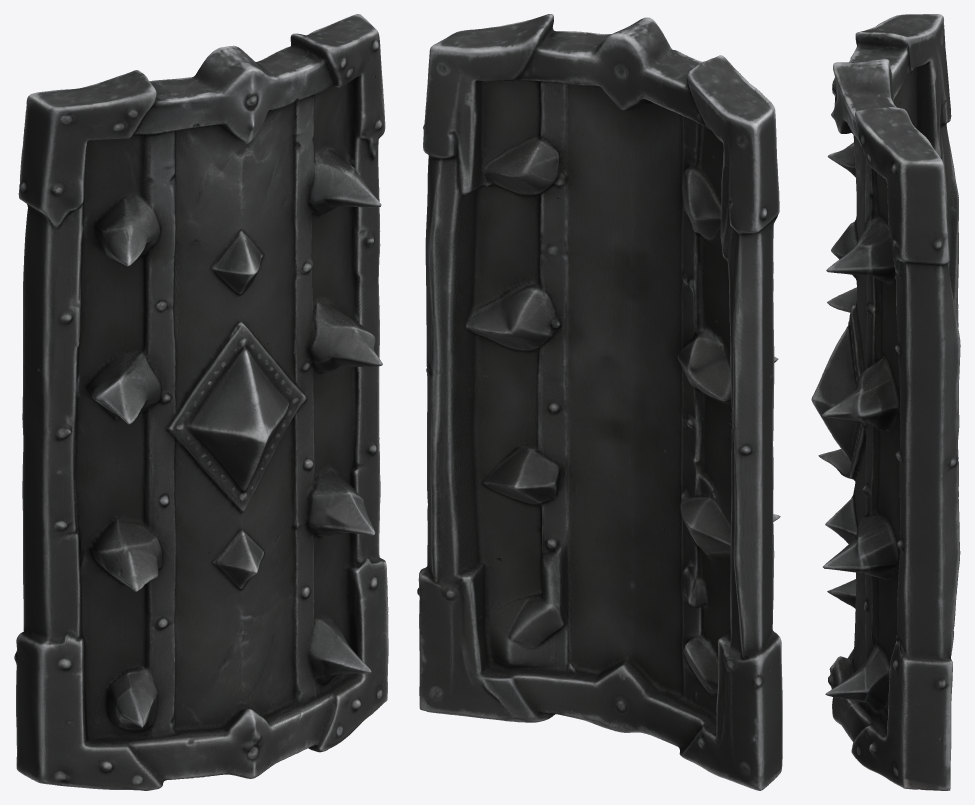
Rendered from Meshy_AI_Ironbound_Obelisk_0812193937_texture.glb.
3 views of the same model, side by side, from view 1: azimuth 30°, elevation 25°; view 2: azimuth 150°, elevation 25°; view 3: azimuth 270°, elevation 25° (orthographic). The views are drawn at different scales.
Size of the model in its own units: 1.04 by 2 by 0.41.
Materials: 1 (1 with a texture image).
